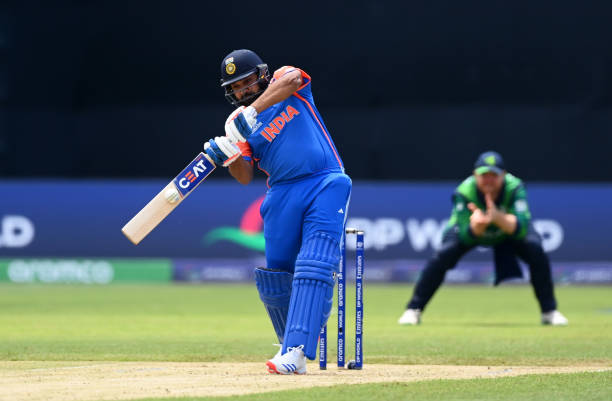Pullshot: (52, 6, 520, 401)
